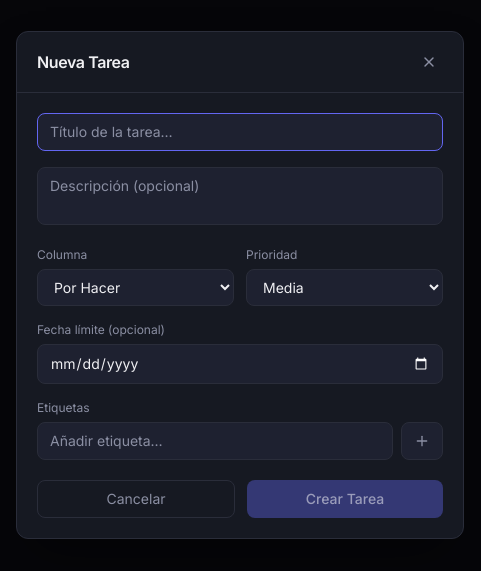
Test case: CreateTaskModal — etiquetas › añade una etiqueta al presionar Enter en el input de etiqueta
Type "backend" into the field with placeholder "Añadir etiqueta…" at (215, 441), box [37, 422, 393, 460]
Then press Enter
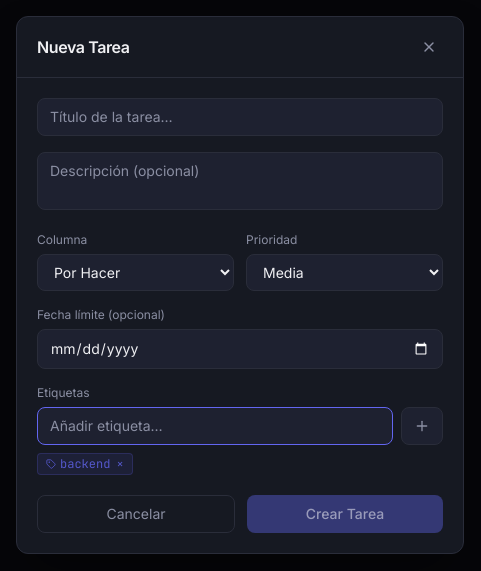
Expected: the text "backend" is shown, [60, 456, 110, 472]
